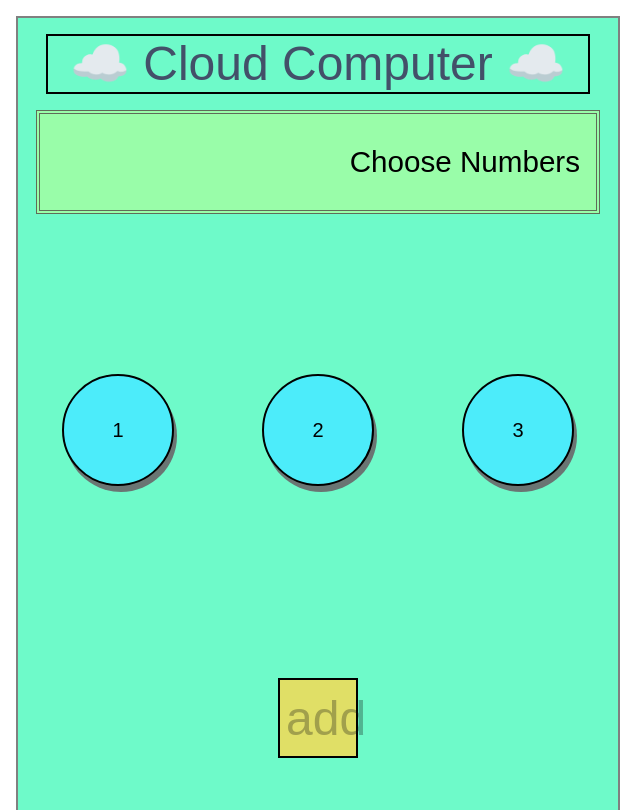
Test: Calculator Component › displays the result of the operation on the display when operation button is clicked
Click the button "1" at (118, 430), box [62,374,174,486]
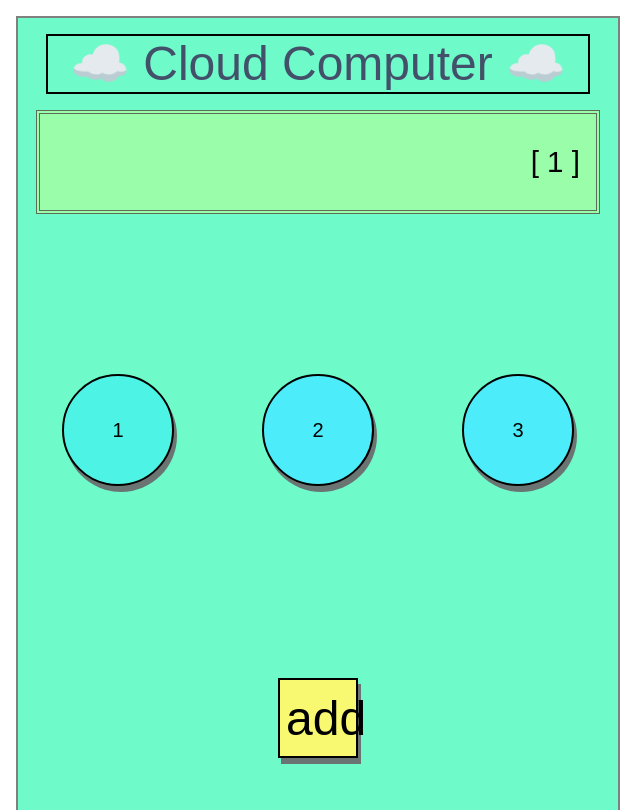
Click the button "3" at (518, 430), box [462,374,574,486]
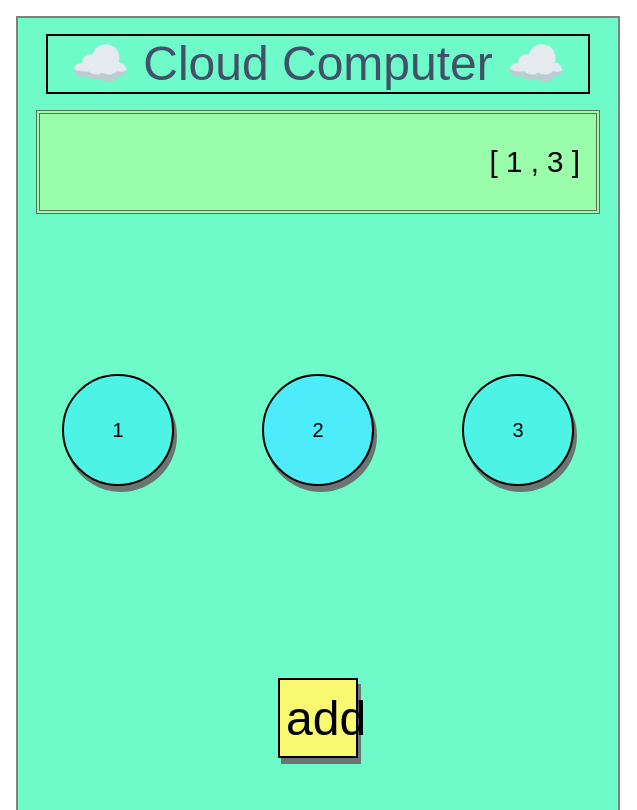
Click the button "add" at (318, 718), box [278,678,358,758]
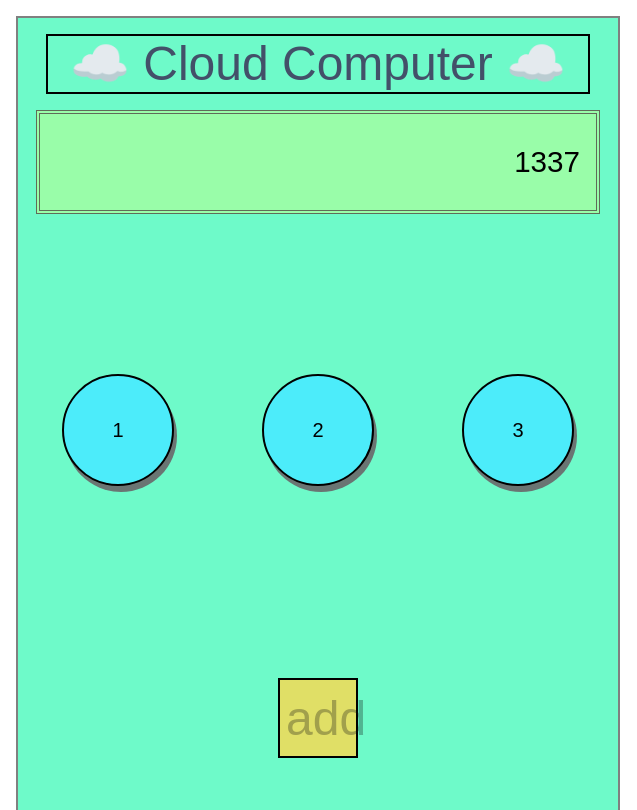
Check: the text "1337" is shown, box [36,110,600,214]
